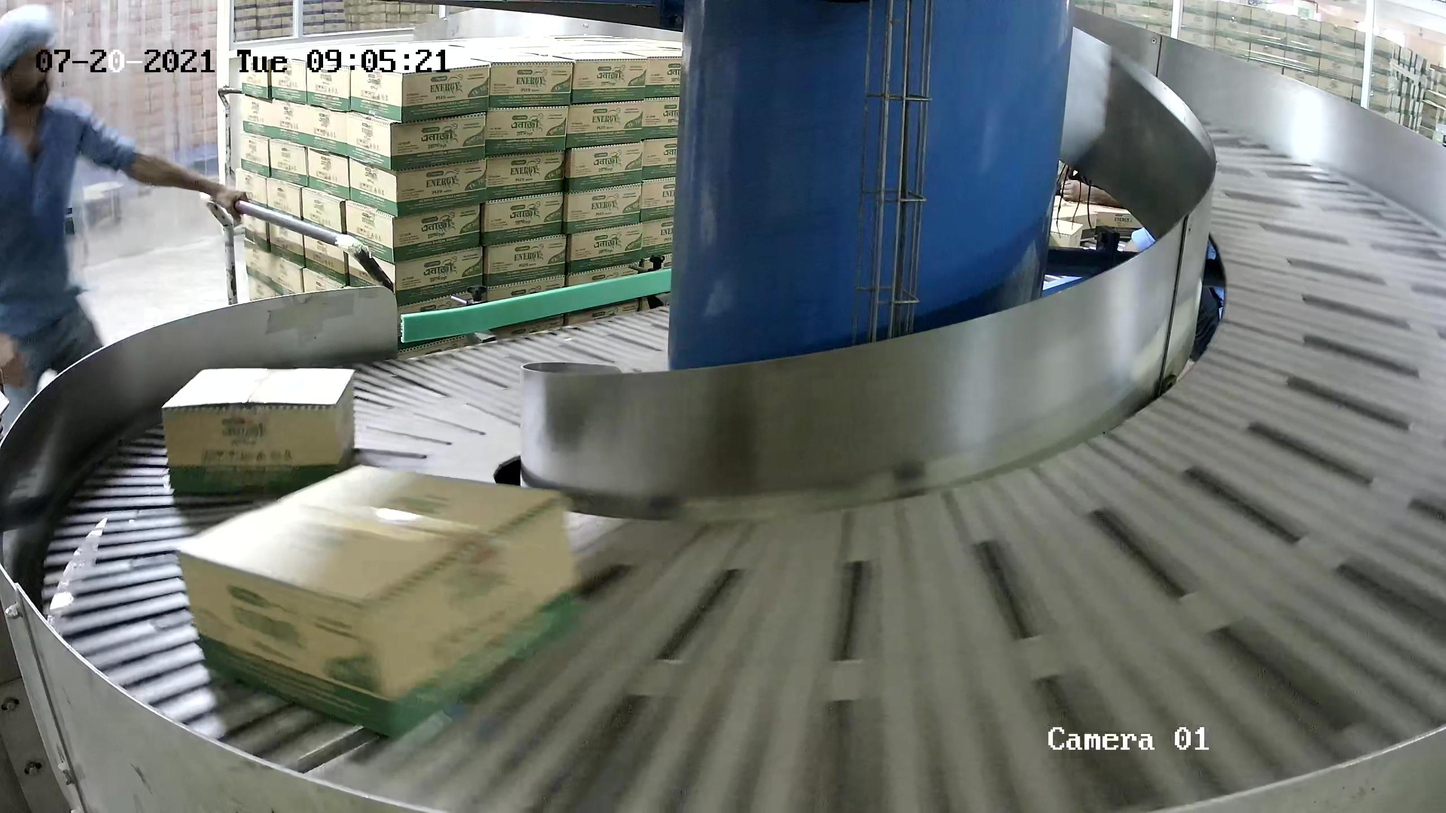Box: (178, 463, 592, 745), (161, 367, 358, 505)
